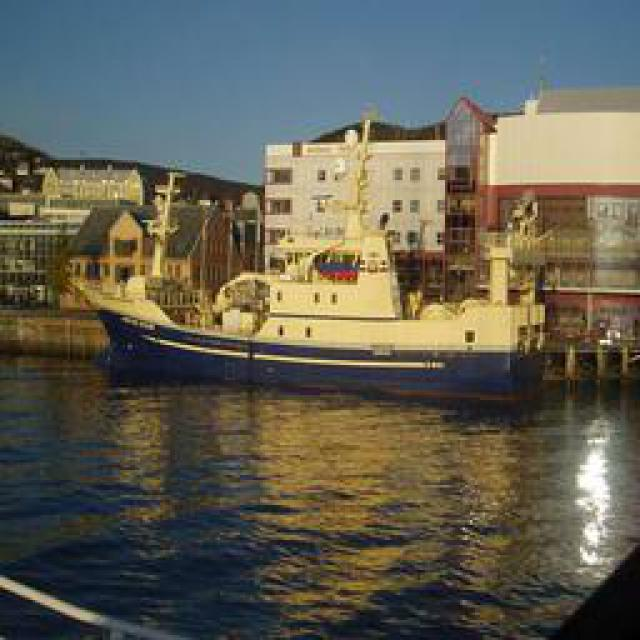Ship: (79, 105, 592, 393)
